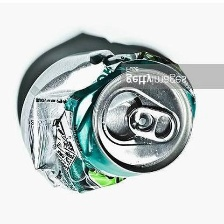can: (15, 38, 206, 201)
